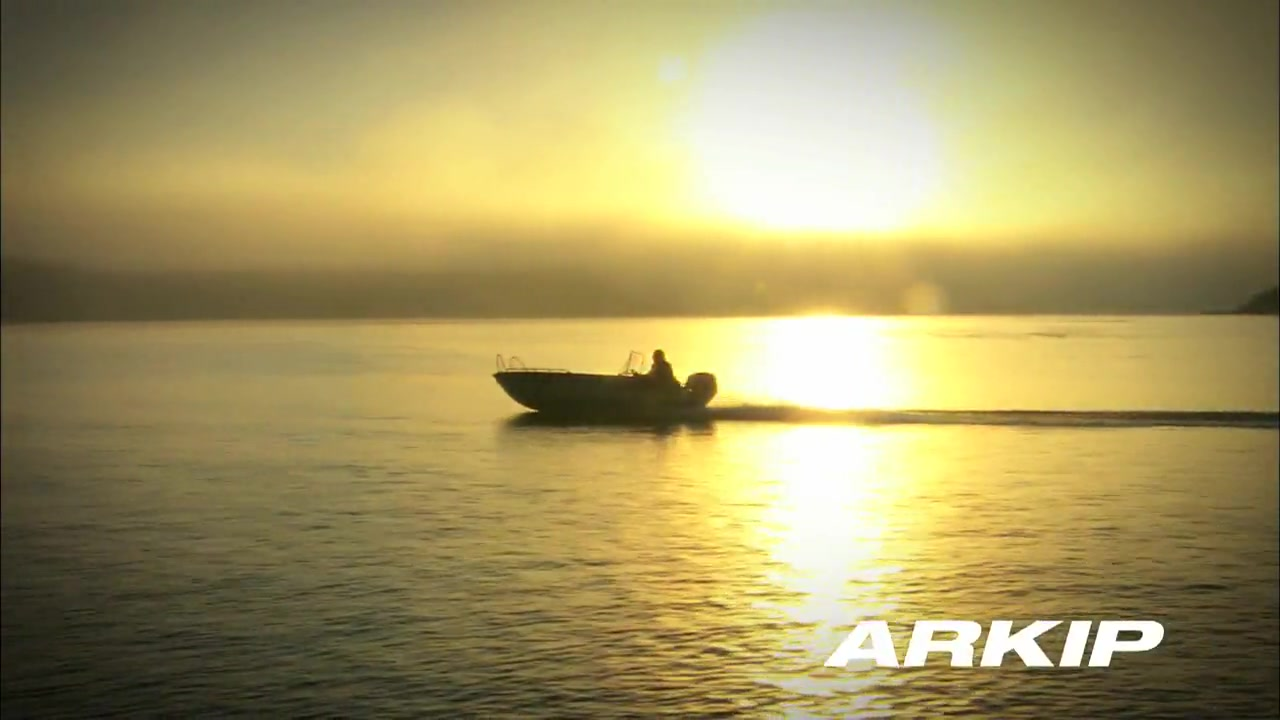boat: (490, 348, 724, 424)
